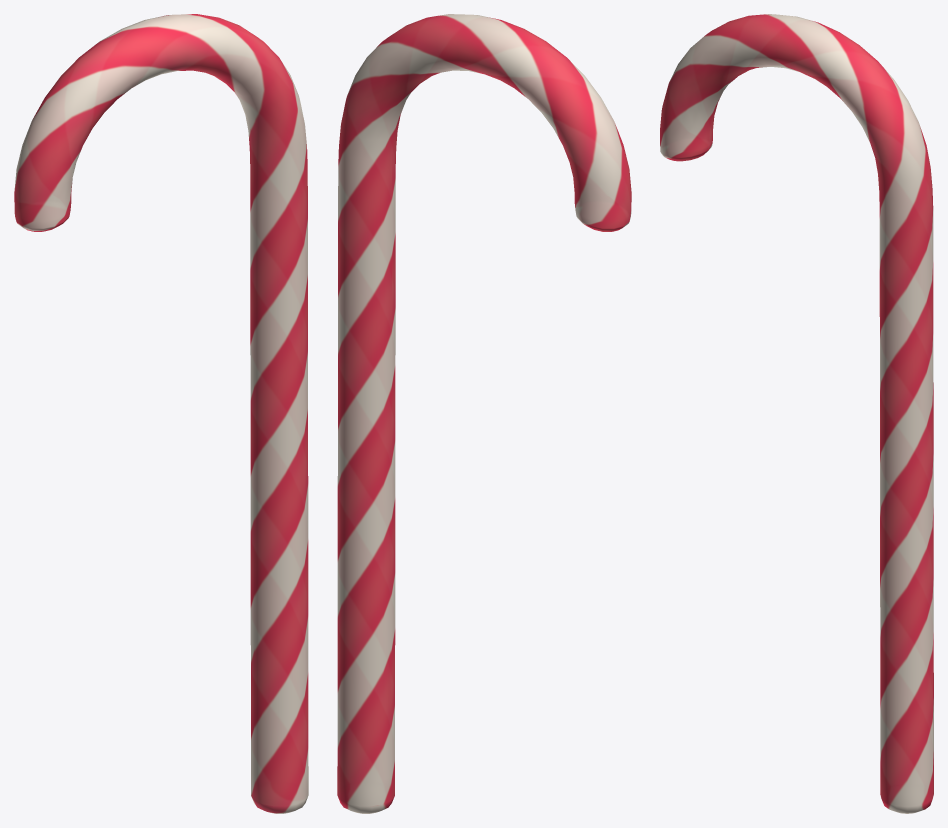
File: Candycane.fbx
The picture shows the model from 3 angles, left to right: view 1: azimuth 30°, elevation 25°; view 2: azimuth 150°, elevation 25°; view 3: azimuth 330°, elevation 25°; orthographic projection. The views are drawn at different scales.
Parts seen in each view (by area): view 1: Candycane; view 2: Candycane; view 3: Candycane.
Boxes of the visible parts, box(x1,y1,x2,y2) form: Candycane: box(14, 14, 308, 813); Candycane: box(337, 14, 631, 813); Candycane: box(660, 14, 933, 813).
Size of the model in its own units: 43.69 by 119 by 7.62.
Materials: 1 (1 with a texture image).
